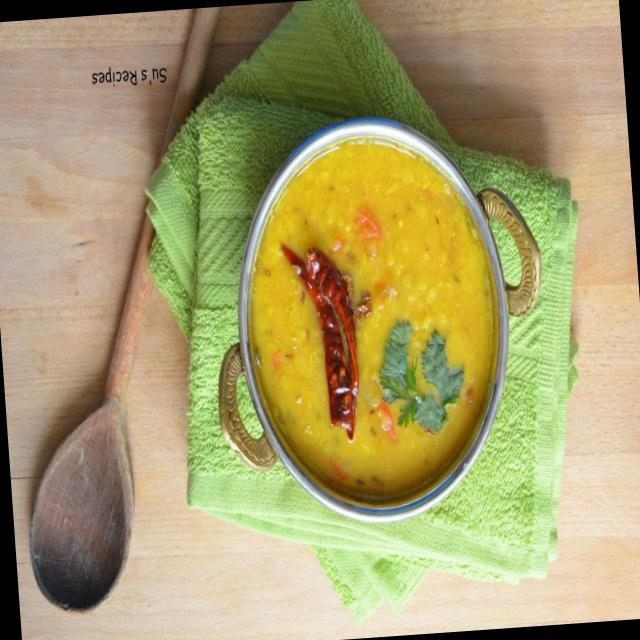dal: (233, 126, 508, 508)
